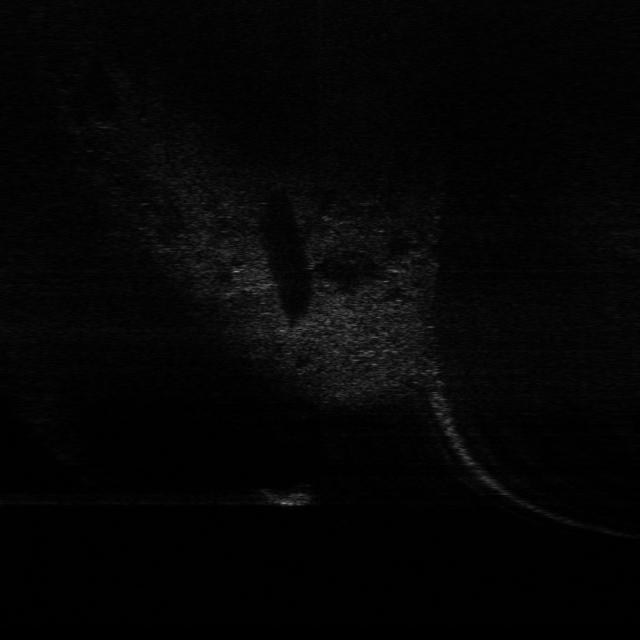cube: (252, 479, 319, 508)
